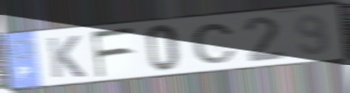0: (144, 23, 184, 74)
2: (242, 16, 288, 65)
9: (293, 13, 332, 57)
C: (189, 22, 239, 65)
F: (89, 26, 136, 79)
K: (45, 34, 87, 80)
